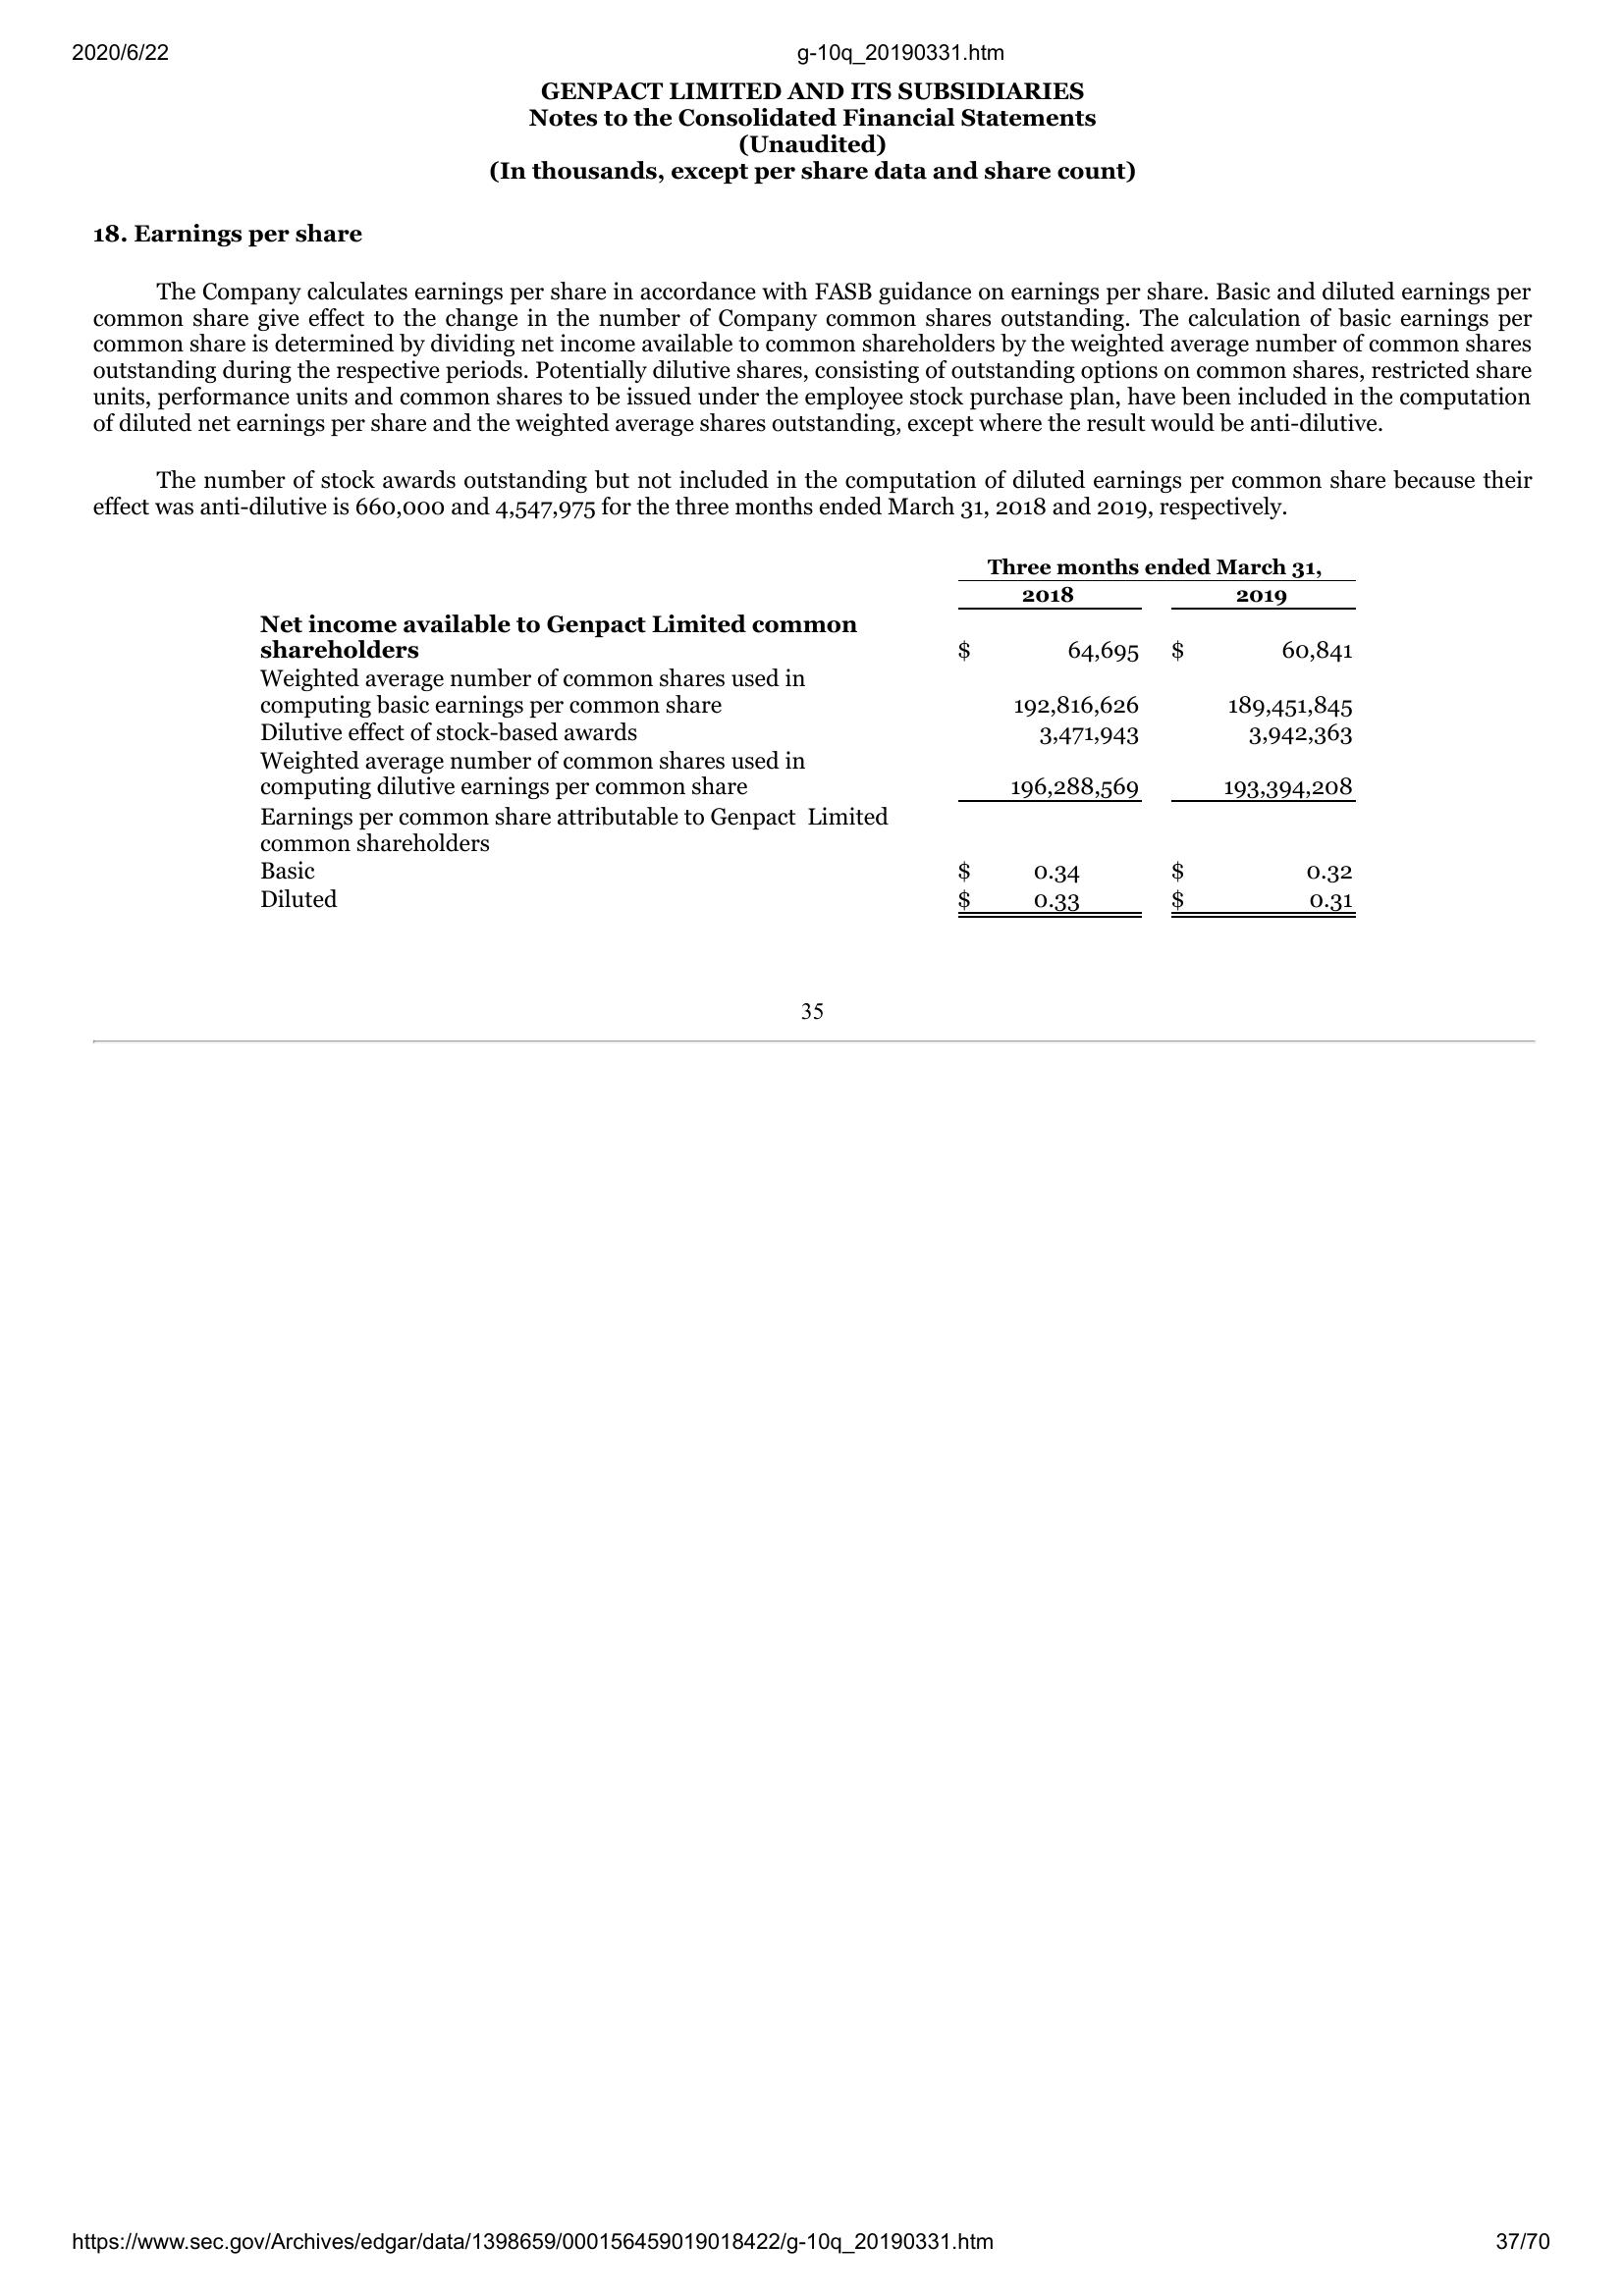table: (249, 551, 1363, 927)
